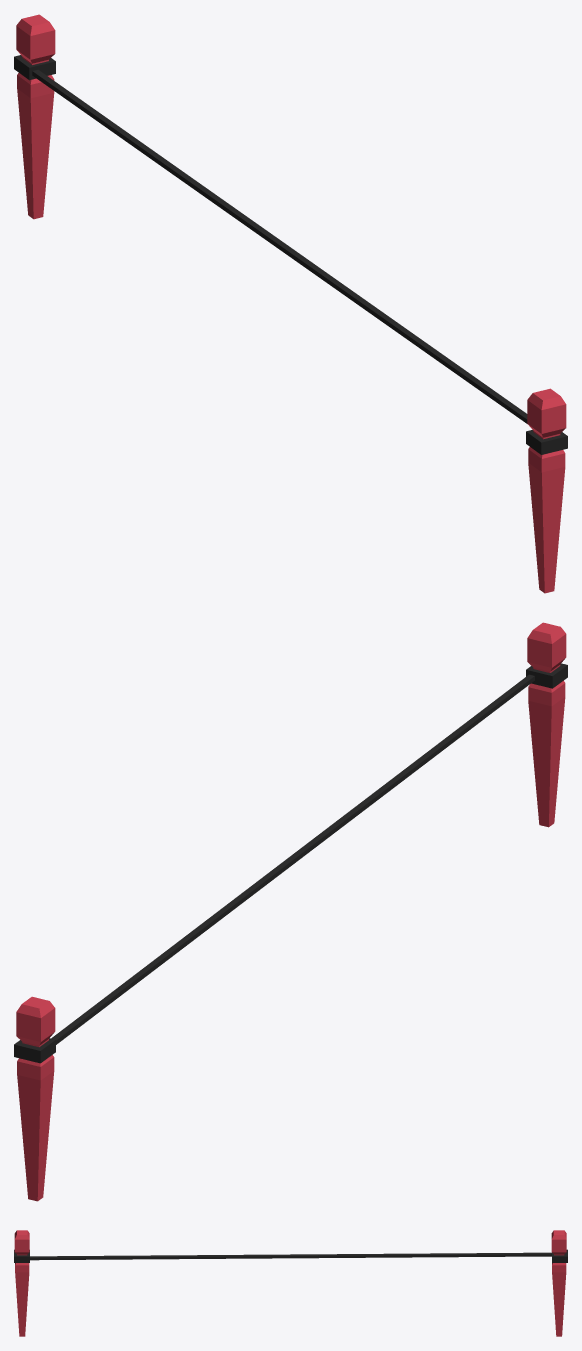
Rendered from TripwireNewAndImprovedUV.fbx.
3 renders of one model, top to bottom at view 1: azimuth 30°, elevation 25°; view 2: azimuth 150°, elevation 25°; view 3: azimuth 270°, elevation 25°, orthographic. The views are drawn at different scales.
Parts seen in each view (by area): view 1: Cube.002; view 2: Cube.002; view 3: Cube.002.
Boxes of the visible parts, x1=… form: Cube.002: x1=14, y1=14, x2=567, y2=593; Cube.002: x1=14, y1=622, x2=567, y2=1201; Cube.002: x1=14, y1=1230, x2=567, y2=1336.
Bounding box in the file's own units: 18.04 × 127 × 619.
